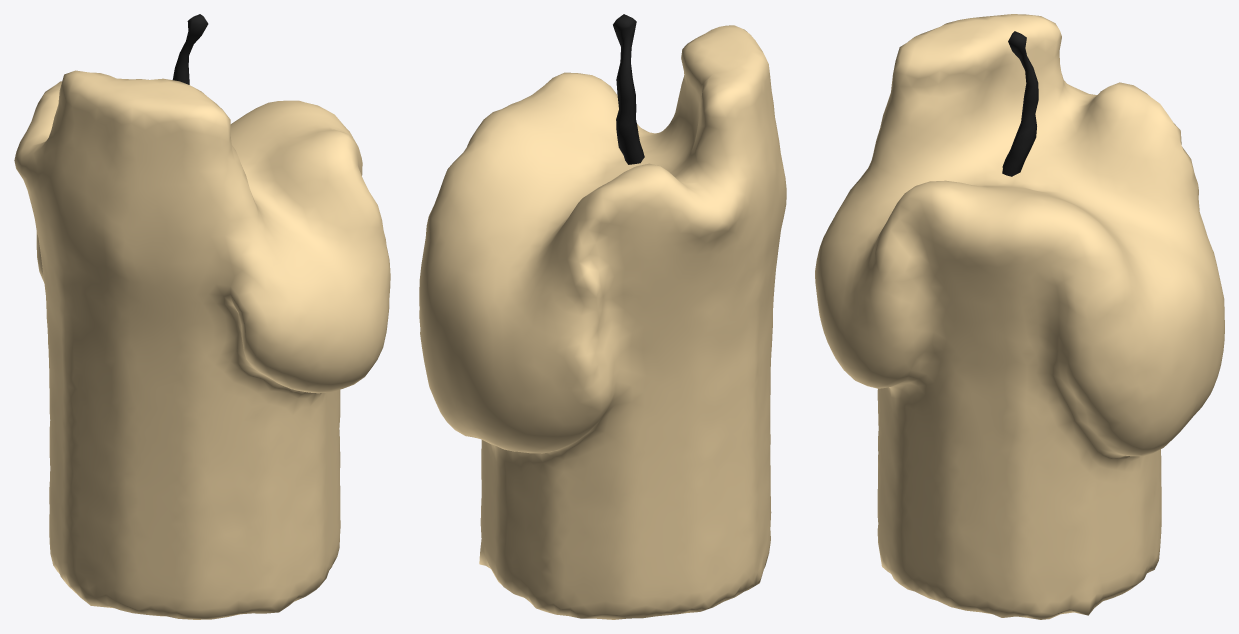
File: SM_Melted_Candle_03.fbx
3 renders of one model, left to right at view 1: azimuth 30°, elevation 25°; view 2: azimuth 150°, elevation 25°; view 3: azimuth 270°, elevation 25°, orthographic. The views are drawn at different scales.
Parts seen in each view (by area): view 1: Candle_Export; view 2: Candle_Export; view 3: Candle_Export.
Boxes of the visible parts, x1,y1,x2,y2 form: Candle_Export: (14, 14, 390, 619); Candle_Export: (419, 14, 786, 619); Candle_Export: (815, 14, 1224, 619).
Size of the model in its own units: 6.24 by 10.94 by 7.63.
